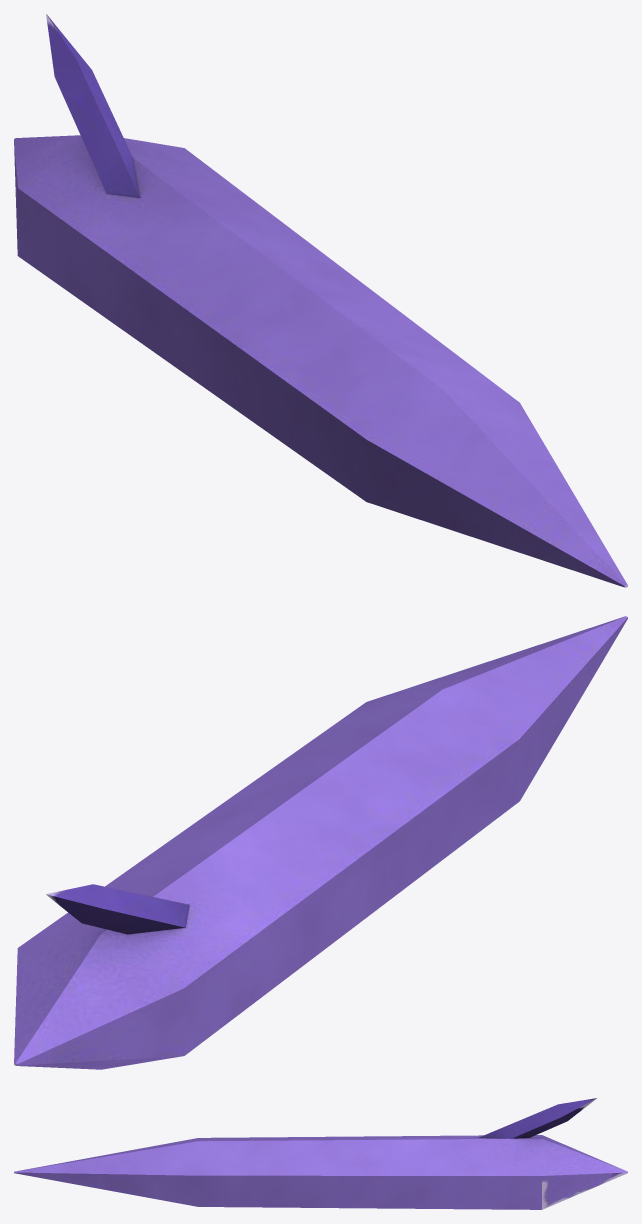
The model's file is myrr_craft.glb.
The picture shows the model from 3 angles, top to bottom: view 1: azimuth 30°, elevation 25°; view 2: azimuth 150°, elevation 25°; view 3: azimuth 270°, elevation 25°; orthographic projection. The views are drawn at different scales.
Parts seen in each view (by area): view 1: HULL; view 2: HULL; view 3: HULL.
Part boxes in pixels (x1=…): HULL: x1=14, y1=14, x2=627, y2=587; HULL: x1=14, y1=616, x2=627, y2=1069; HULL: x1=14, y1=1098, x2=627, y2=1209.
Bounding box in the file's own units: 0.8248 × 1.02 × 5.23.
Materials: 1 (1 with a texture image).
